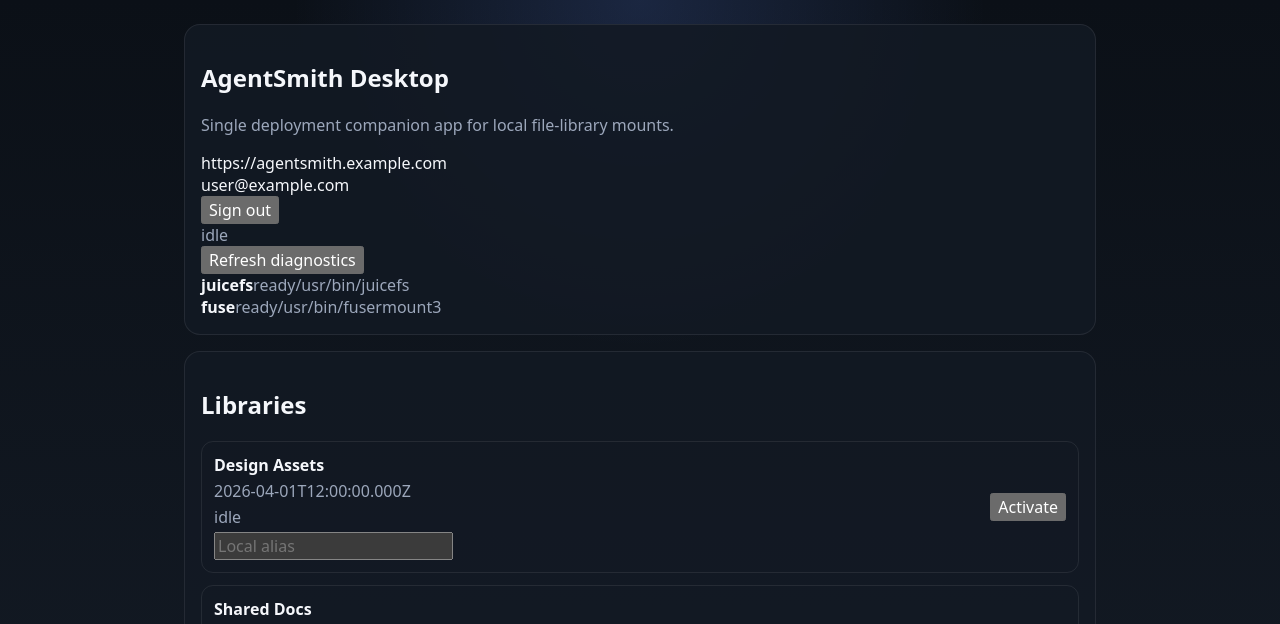
Test: App › restores a signed-in session from local storage and toggles activation
Expected: the text with test id "desktop__deployment-url" reads "https://agentsmith.example.com", [201,152,447,174]
Expected: the text with test id "desktop__signed-in-user" reads "user@example.com", [201,174,349,196]
Click the button with test id "desktop__library-toggle--lib_2". click: (1028, 507)
box: [990,493,1066,521]
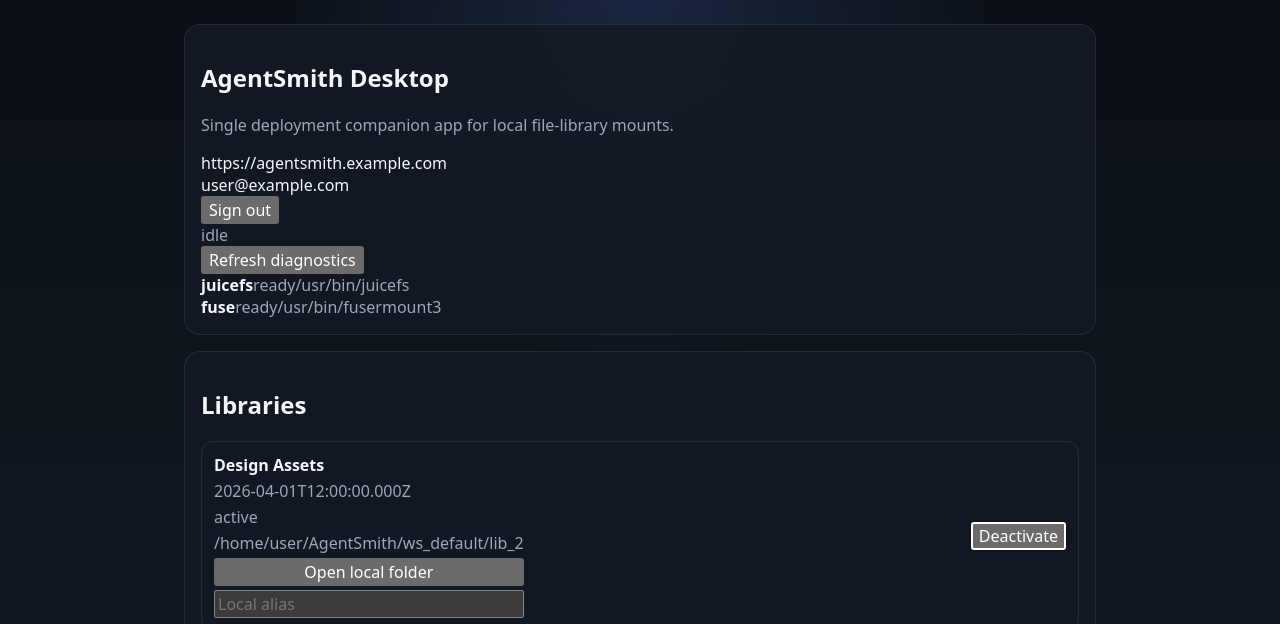
Expected: the button with test id "desktop__library-toggle--lib_2" reads "Deactivate", [971,522,1066,550]
Expected: the text with test id "desktop__library-mount-state--lib_2" reads "active", [214,506,258,528]
Expected: the text with test id "desktop__library-mount-target--lib_2" reads "/home/user/AgentSmith/ws_default/lib_2", [214,532,524,554]
Type "Work Files" into the field with test id "desktop__library-alias--lib_2". click: (369, 604)
box: [214,590,524,618]
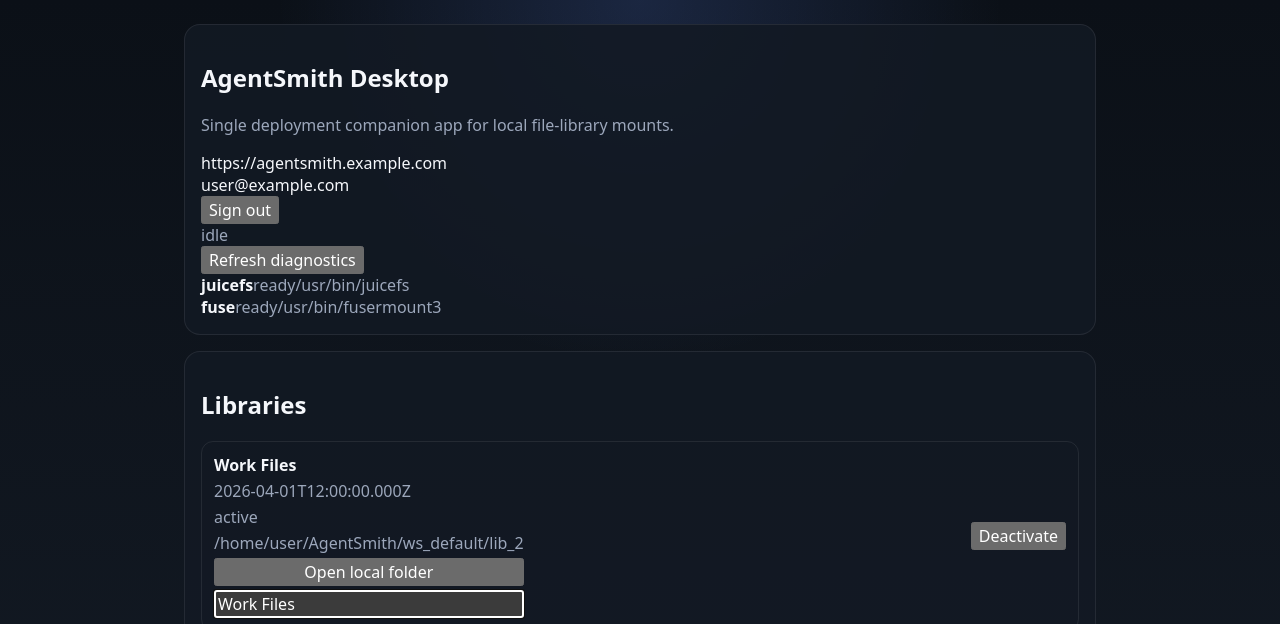
Click the button with test id "desktop__library-toggle--lib_2". click: (1018, 536)
box: [971,522,1066,550]
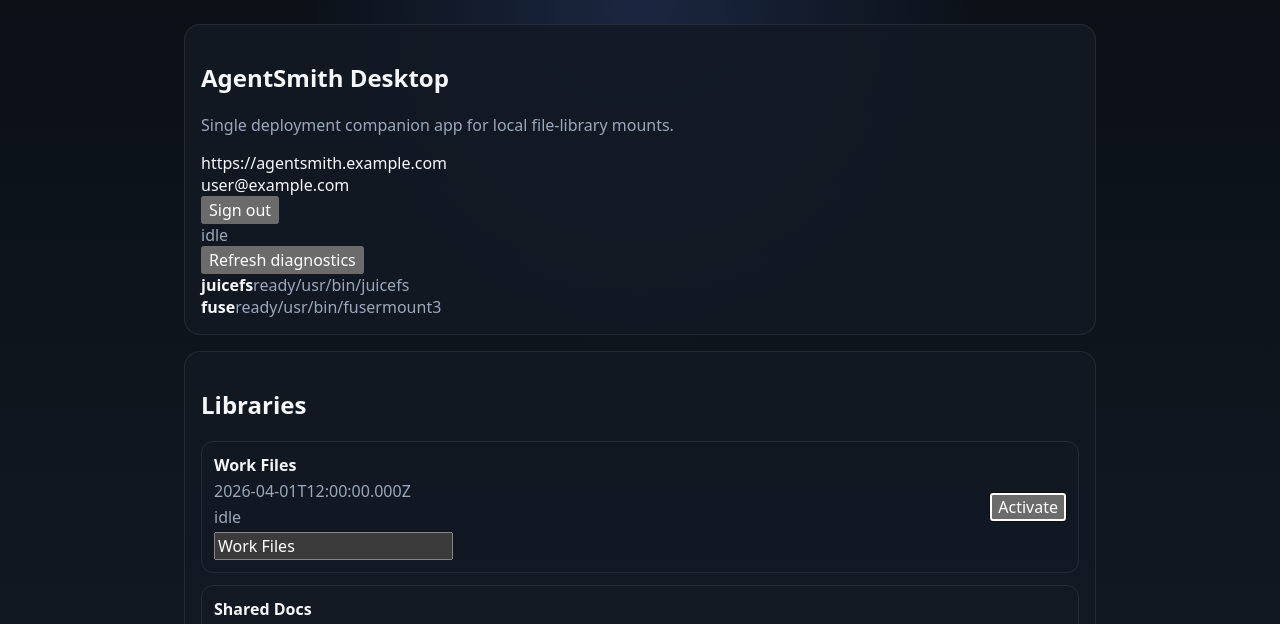
Expected: the button with test id "desktop__library-toggle--lib_2" reads "Activate", [990,493,1066,521]
Expected: the text with test id "desktop__library-mount-state--lib_2" reads "idle", [214,506,241,528]
